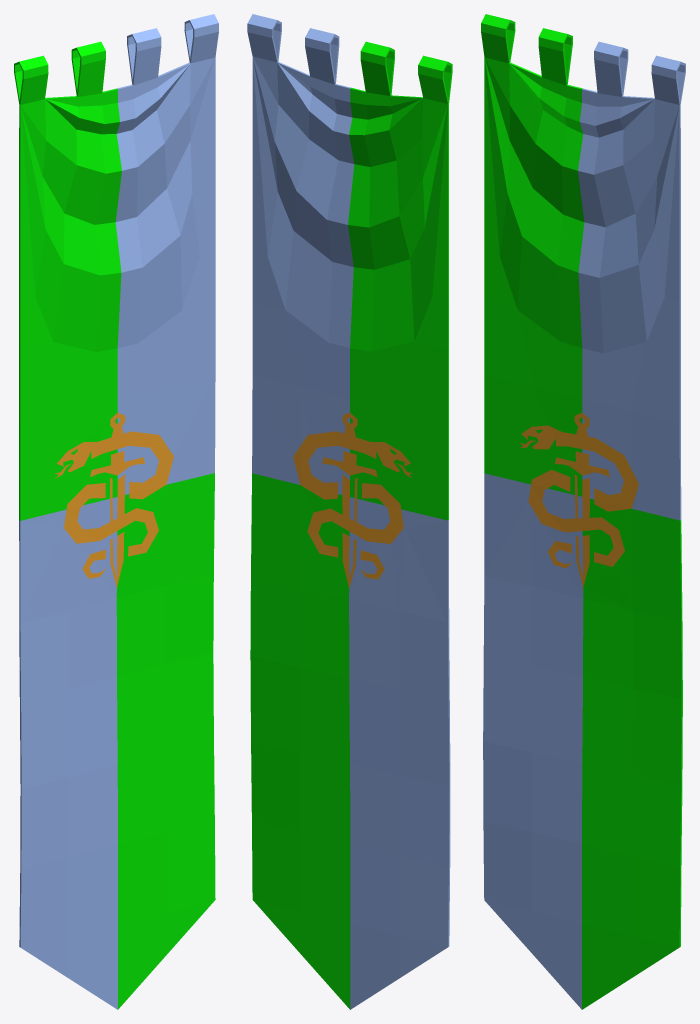
Rendered from SM_Flag_Banner_Big_D_Fantasy.fbx.
3 renders of one model, left to right at view 1: azimuth 30°, elevation 25°; view 2: azimuth 150°, elevation 25°; view 3: azimuth 330°, elevation 25°, orthographic.
Parts seen in each view (by area): view 1: flag-banner-big-d-fantasy; view 2: flag-banner-big-d-fantasy; view 3: flag-banner-big-d-fantasy.
Part boxes in pixels (left/top/right/bottom): flag-banner-big-d-fantasy: left=14, top=14, right=218, bottom=1009; flag-banner-big-d-fantasy: left=247, top=14, right=452, bottom=1009; flag-banner-big-d-fantasy: left=481, top=14, right=685, bottom=1009.
Bounding box in the file's own units: 0.9569 × 4.55 × 0.0886.
